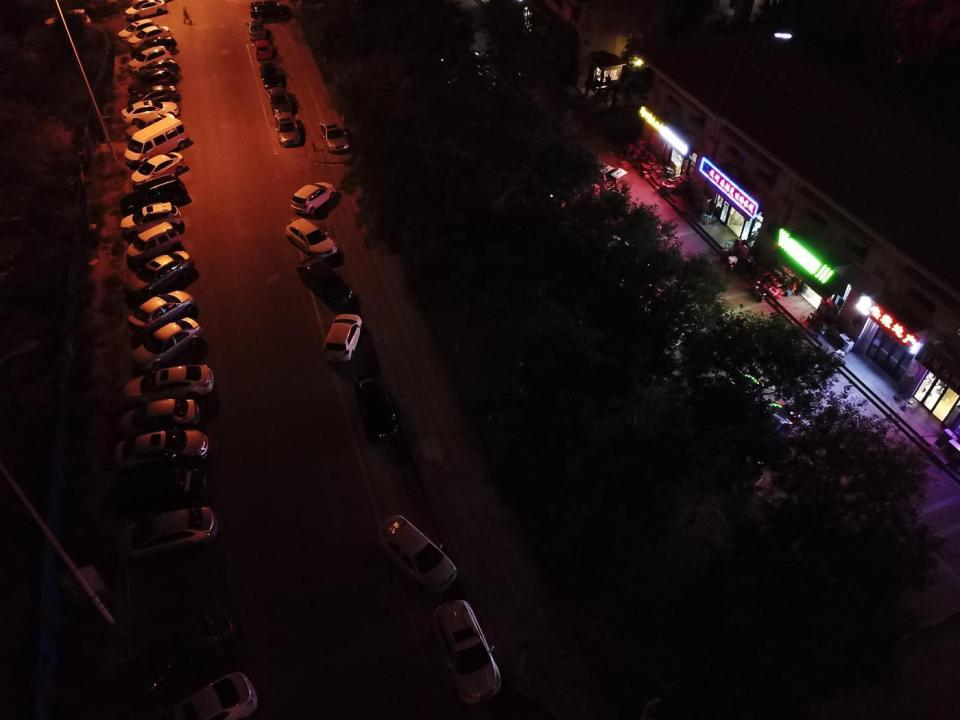car: (131, 606, 243, 681), (432, 596, 505, 703), (374, 513, 459, 593), (719, 403, 802, 484), (109, 507, 221, 566), (150, 669, 259, 720), (682, 370, 766, 435), (107, 462, 213, 512), (110, 426, 211, 474), (126, 316, 206, 372), (110, 397, 203, 440), (116, 366, 215, 406), (350, 371, 404, 443), (126, 251, 194, 304), (124, 290, 204, 332), (295, 256, 354, 308), (120, 176, 187, 212), (284, 217, 340, 260), (118, 200, 184, 236), (321, 312, 363, 361), (130, 152, 186, 187), (289, 179, 338, 216), (122, 112, 174, 142), (126, 45, 176, 74), (316, 118, 351, 156), (120, 101, 180, 123), (272, 108, 304, 148), (130, 84, 180, 109), (129, 26, 172, 52), (118, 16, 161, 42), (43, 8, 91, 31), (125, 70, 174, 92), (130, 37, 179, 59), (125, 0, 171, 21), (135, 60, 180, 80), (249, 2, 294, 22), (262, 85, 293, 113), (258, 60, 282, 90), (252, 39, 273, 63), (246, 18, 267, 40)
van: (123, 116, 188, 166), (126, 220, 183, 268), (574, 149, 629, 192)
